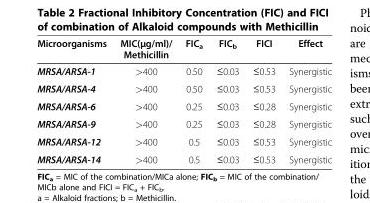table: (36, 36, 331, 164)
table column: (36, 36, 112, 164), (112, 36, 178, 164), (281, 36, 331, 164), (208, 36, 245, 164), (245, 36, 281, 164), (178, 36, 208, 164)
table column header: (36, 36, 331, 62)
table row: (36, 36, 331, 62), (36, 79, 331, 97), (36, 114, 331, 132), (36, 132, 331, 150), (36, 62, 331, 79), (36, 97, 331, 114), (36, 150, 331, 164)
